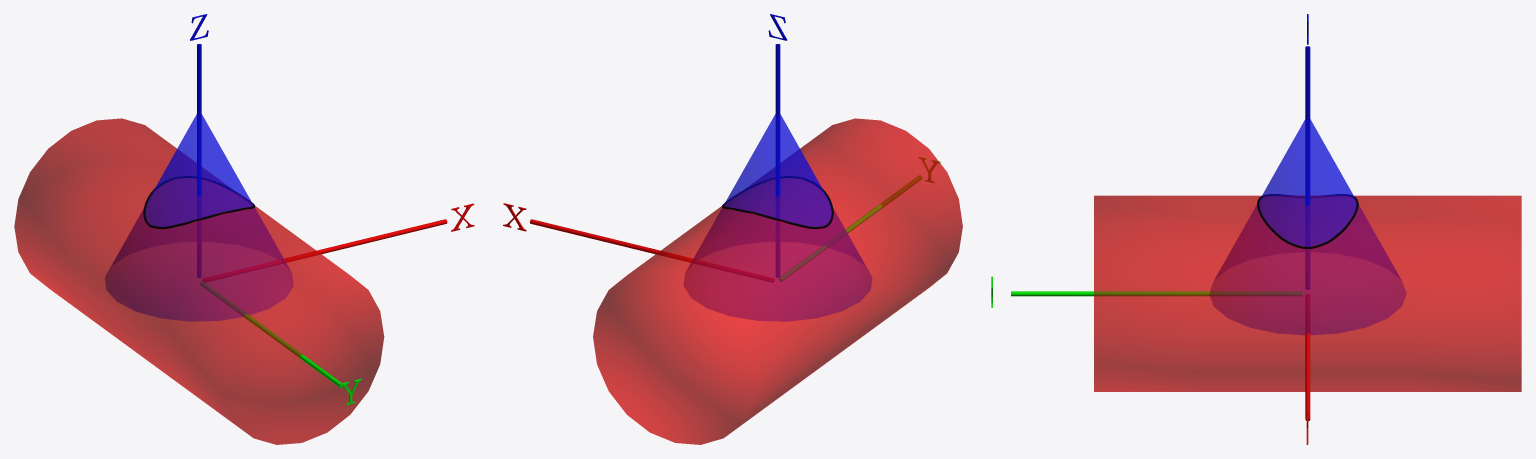
File: CilindroCono.fbx
3 views of the same model, side by side, from view 1: azimuth 30°, elevation 25°; view 2: azimuth 150°, elevation 25°; view 3: azimuth 270°, elevation 25° (orthographic). The views are drawn at different scales.
Parts seen in each view (by area): view 1: polySurface3, polySurface2, Eje_X, Eje_Z, Eje_Y, polySurface1; view 2: polySurface3, polySurface2, Eje_X, Eje_Z, Eje_Y, polySurface1; view 3: polySurface3, polySurface2, Eje_Y, Eje_Z, Eje_X, polySurface1.
Boxes of the visible parts, x1,y1,x2,y2 form: polySurface3: (14, 118, 384, 444); polySurface2: (105, 114, 293, 321); Eje_X: (203, 219, 447, 282); Eje_Z: (197, 44, 201, 277); Eje_Y: (200, 282, 343, 388); polySurface1: (143, 176, 255, 229); polySurface3: (593, 118, 962, 444); polySurface2: (684, 114, 871, 321); Eje_X: (530, 219, 774, 282); Eje_Z: (775, 44, 780, 277); Eje_Y: (779, 175, 921, 281); polySurface1: (722, 176, 833, 229); polySurface3: (1094, 195, 1521, 391); polySurface2: (1210, 119, 1406, 334); Eje_Y: (1011, 291, 1302, 296); Eje_Z: (1305, 46, 1310, 289); Eje_X: (1305, 294, 1310, 421); polySurface1: (1257, 194, 1358, 249).
Bounding box in the file's own units: 220 × 207 × 272.
